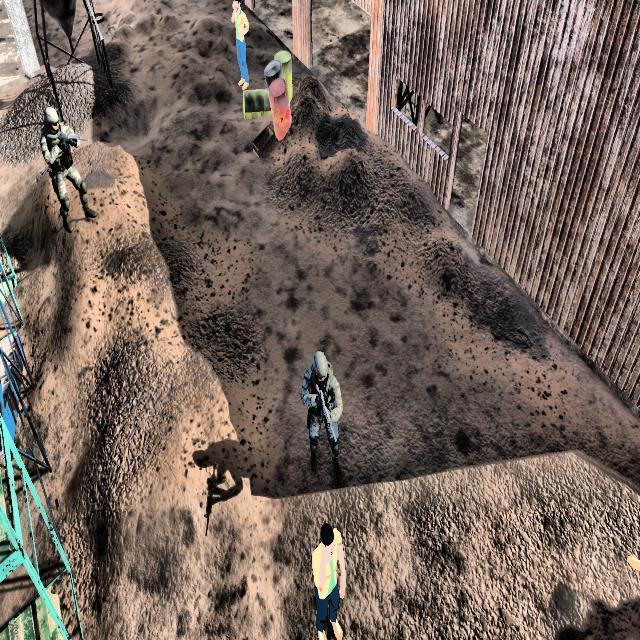bad: (38, 95, 96, 250), (293, 335, 349, 491)
good: (219, 0, 256, 95)
